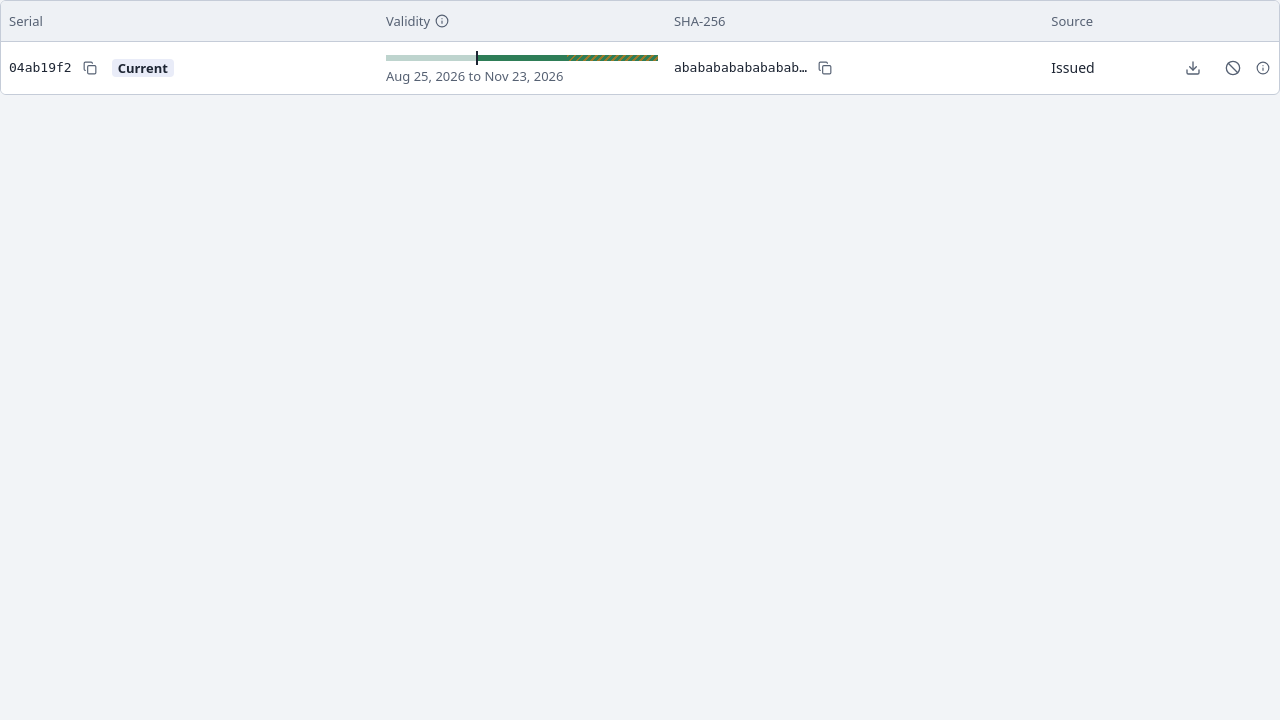
Test case: 409 toasts already revoked
Click the button named "Revoke version 04ab19f2" at (1233, 68), box [1215,50,1251,86]
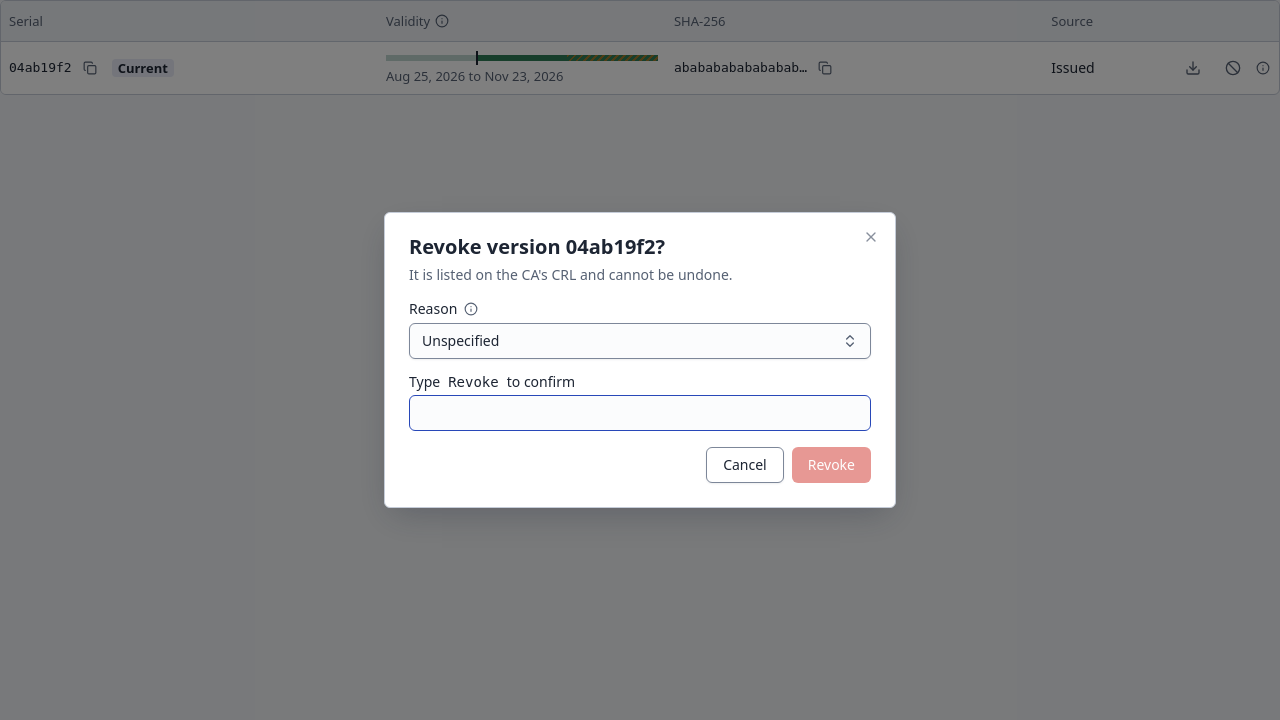
Type "Revoke" into the field labelled "Type Revoke to confirm" at (640, 413), box [409,395,871,431]
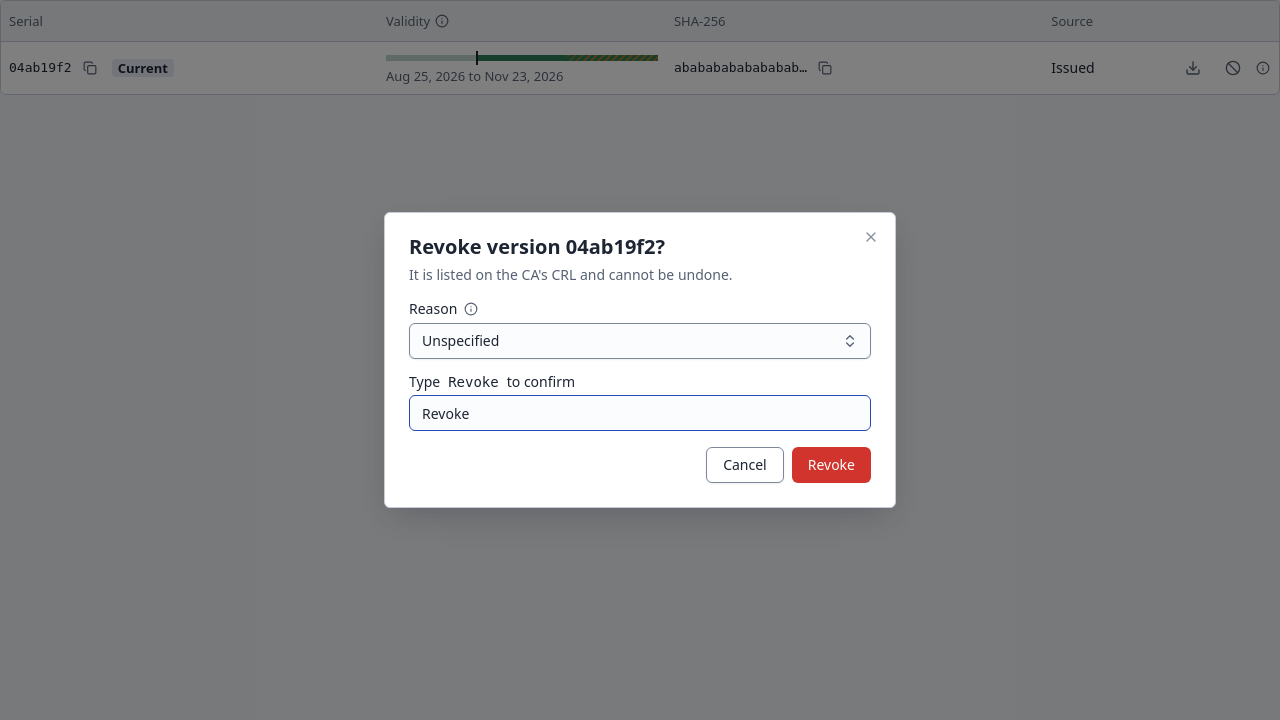
Click the button "Revoke" at (831, 465), box [792,447,871,483]
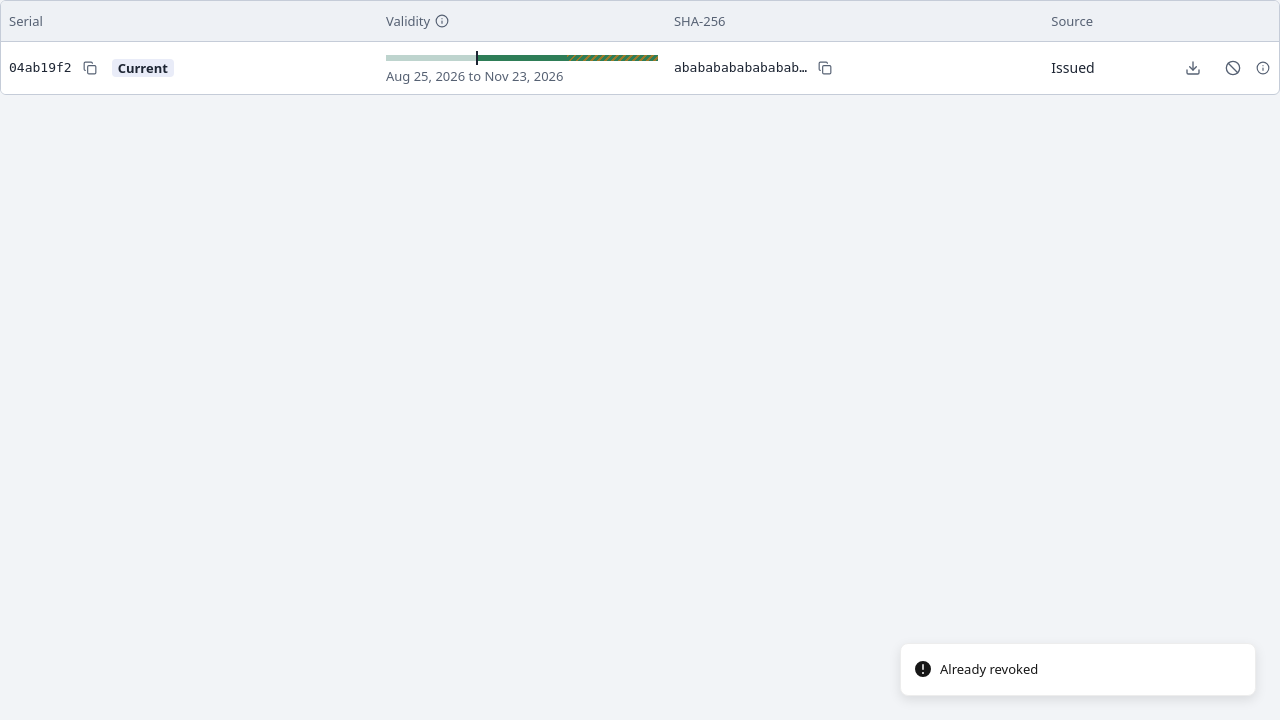
Check: the text "Already revoked" is shown, box [940,660,1038,679]
